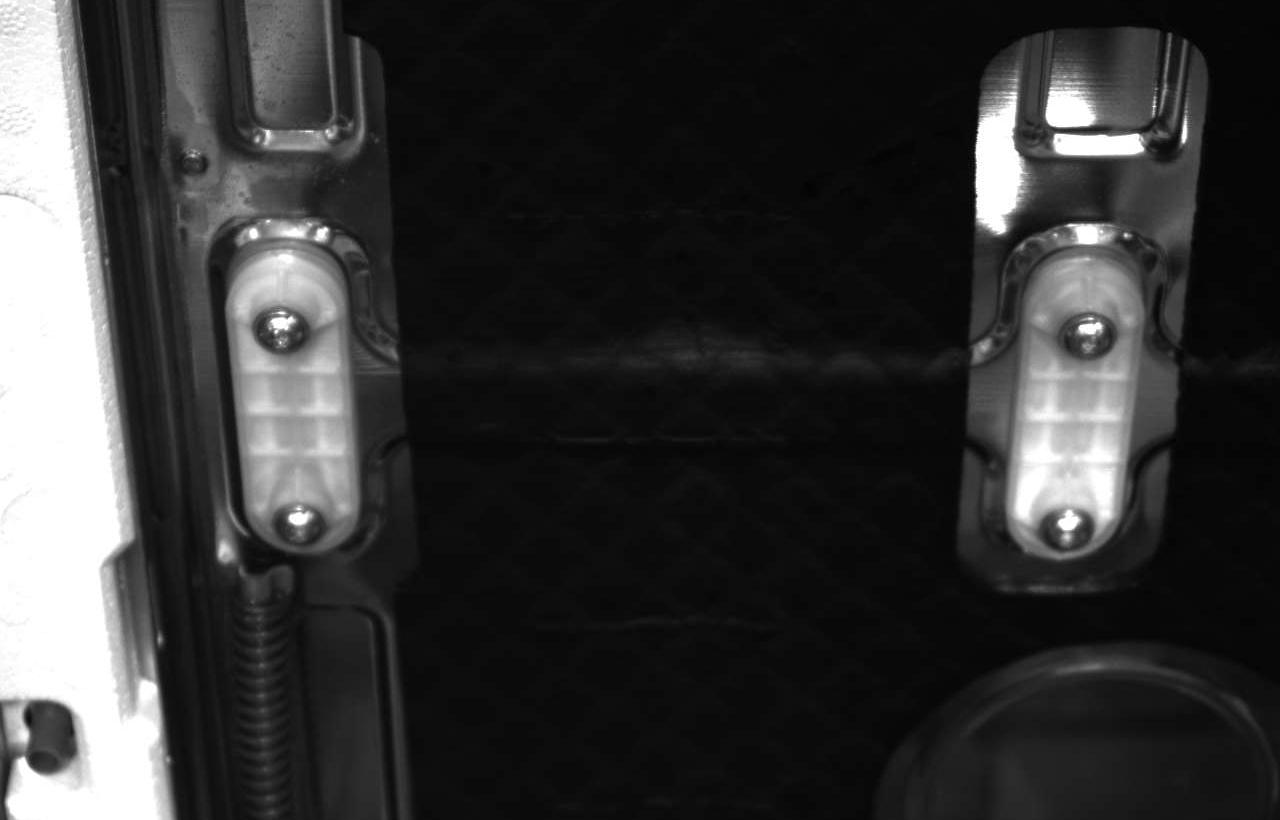vida-ok: (241, 298, 313, 365), (1033, 498, 1099, 567), (1050, 302, 1117, 369), (264, 492, 330, 551)
